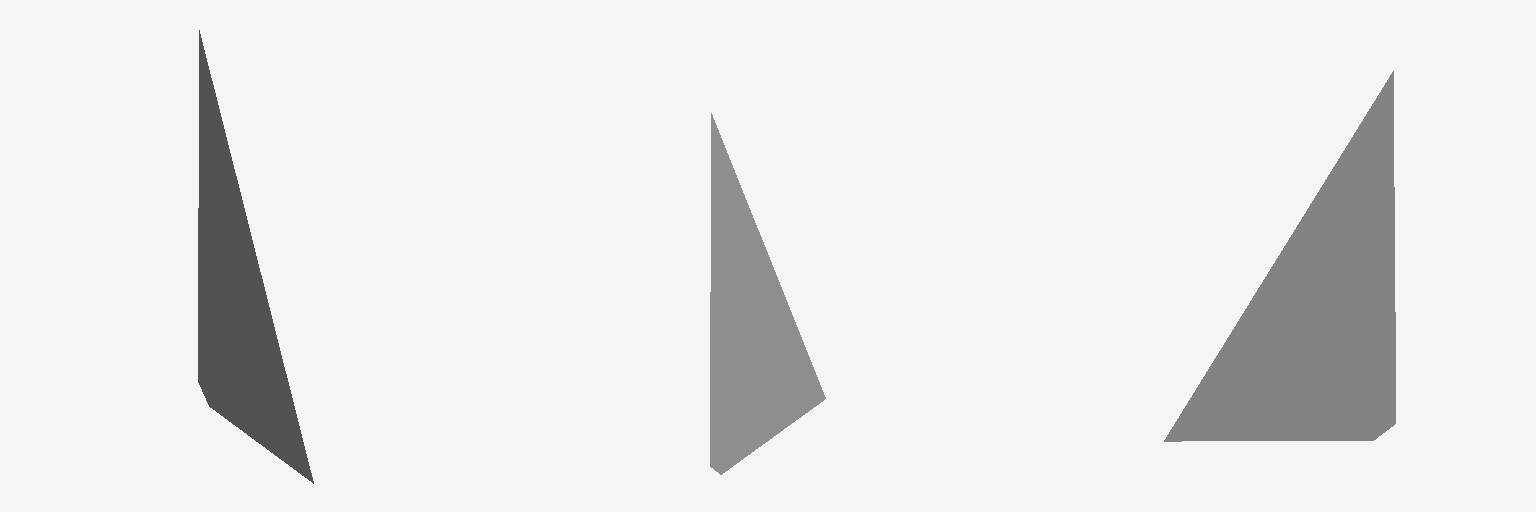
Rendered from frontsail.obj.
The picture shows the model from 3 angles: view 1: azimuth 30°, elevation 25°; view 2: azimuth 150°, elevation 25°; view 3: azimuth 270°, elevation 25°; orthographic projection.
Bounding box in the file's own units: 0 × 10.74 × 6.11.